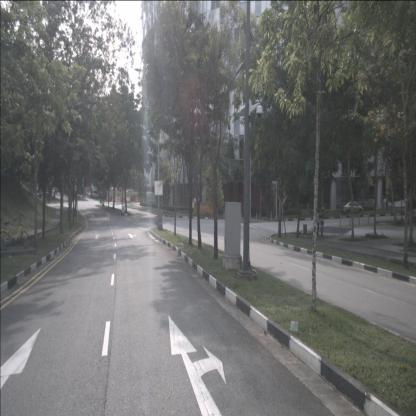human-pedestrian-adult: (381, 194, 384, 210), (386, 194, 388, 210)
vehicle-bicycle: (0, 214, 30, 250)
vehicle-car: (341, 201, 363, 217), (87, 190, 93, 198), (92, 191, 98, 199)
